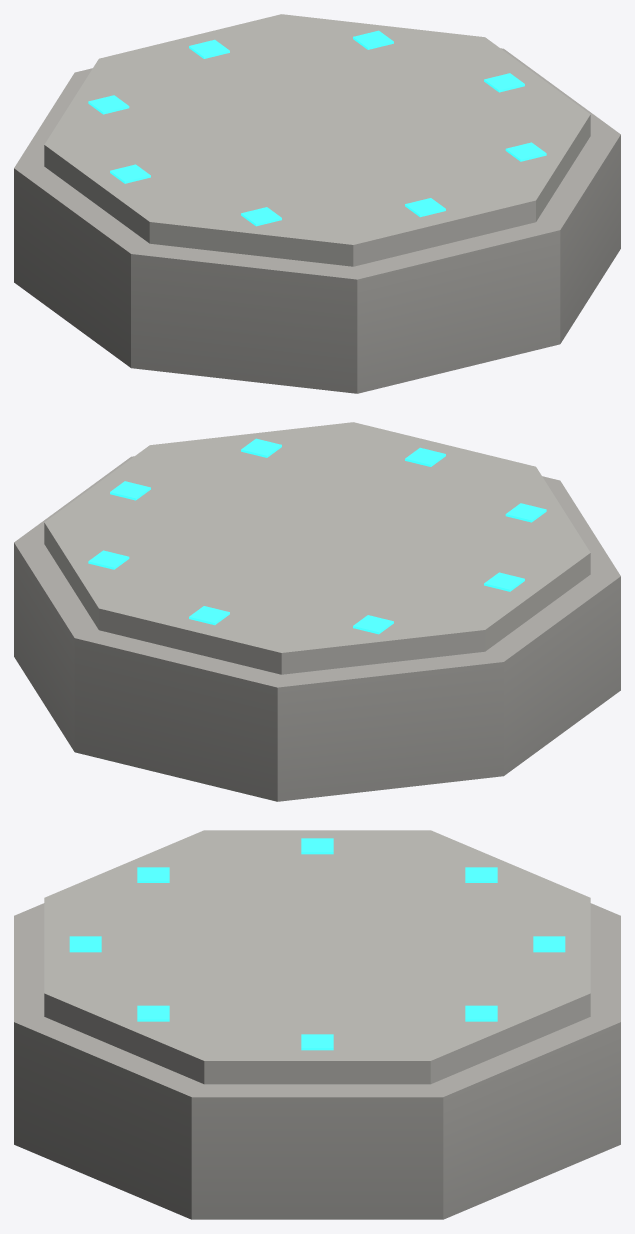
3 renders of one model, top to bottom at view 1: azimuth 30°, elevation 25°; view 2: azimuth 150°, elevation 25°; view 3: azimuth 270°, elevation 25°, orthographic. The views are drawn at different scales.
Visible parts, largest first — view 1: pad_concrete, pad_glow; view 2: pad_concrete, pad_glow; view 3: pad_concrete, pad_glow.
Boxes of the visible parts, <box> form: pad_concrete: <box>14,14,620,393</box>; pad_glow: <box>88,30,546,226</box>; pad_concrete: <box>14,422,620,801</box>; pad_glow: <box>88,438,546,634</box>; pad_concrete: <box>14,830,620,1219</box>; pad_glow: <box>69,838,565,1050</box>.
Bounding box in the file's own units: 1.88 × 0.508 × 1.88.
